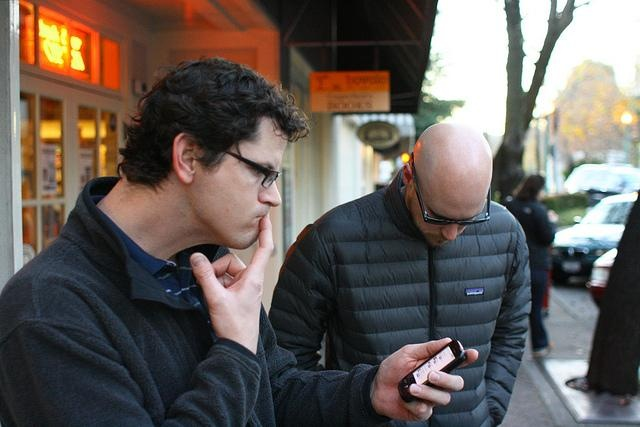person: (1, 57, 305, 423), (286, 118, 532, 427)
